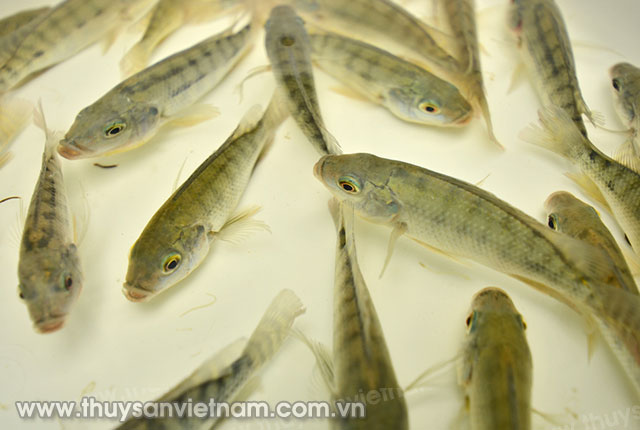fish: (315, 146, 438, 228), (11, 211, 81, 327), (110, 202, 197, 295), (458, 287, 532, 386), (372, 54, 469, 123), (526, 188, 613, 257), (60, 88, 154, 151), (323, 362, 410, 430), (507, 1, 567, 55), (607, 57, 640, 110)
